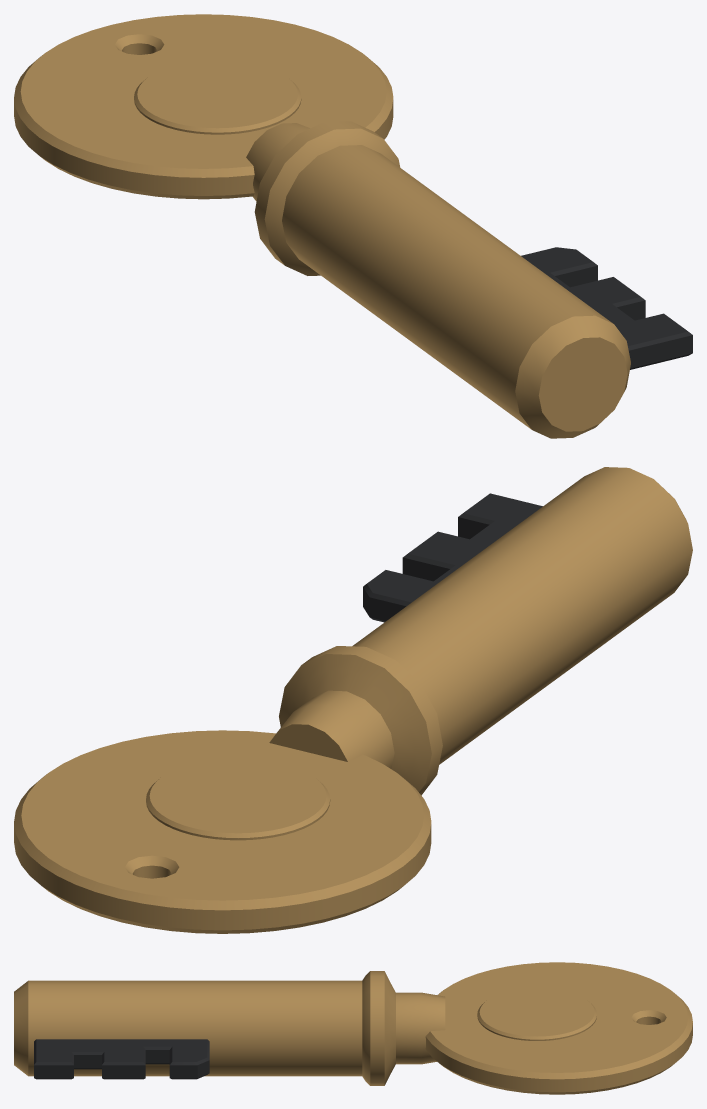
The model's file is key_circle.glb.
3 views of the same model, one above another, from view 1: azimuth 30°, elevation 25°; view 2: azimuth 150°, elevation 25°; view 3: azimuth 270°, elevation 25° (orthographic). The views are drawn at different scales.
Visible parts, largest first — view 1: key_circle, key_bit; view 2: key_circle, key_bit; view 3: key_circle, key_bit.
Part boxes in pixels (left/top/right/bottom): key_circle: left=14, top=14, right=630, bottom=438; key_bit: left=521, top=247, right=692, bottom=369; key_circle: left=14, top=467, right=692, bottom=933; key_bit: left=363, top=493, right=542, bottom=622; key_circle: left=14, top=962, right=692, bottom=1094; key_bit: left=34, top=1039, right=209, bottom=1079.
Size of the model in its own units: 0.034 by 0.0144 by 0.085.
